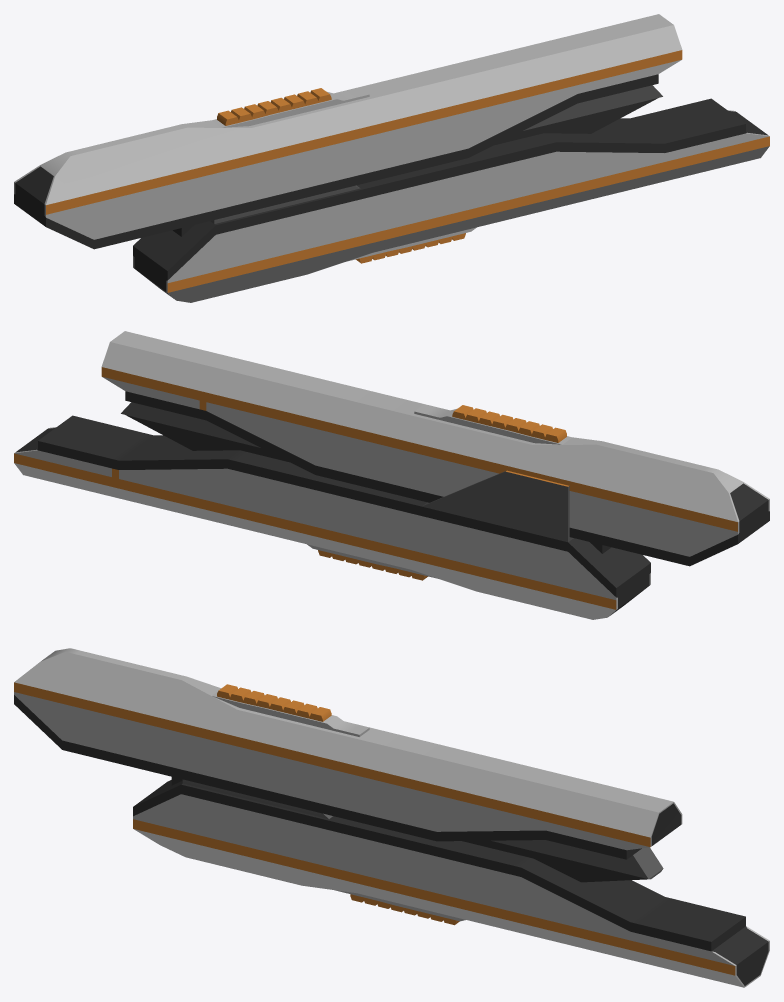
File: Body_Front_Sniper_1.gltf
3 renders of one model, top to bottom at view 1: azimuth 30°, elevation 25°; view 2: azimuth 150°, elevation 25°; view 3: azimuth 330°, elevation 25°, orthographic.
Parts seen in each view (by area): view 1: Body_Front_Sniper_1; view 2: Body_Front_Sniper_1; view 3: Body_Front_Sniper_1.
Part boxes in pixels (x1=…): Body_Front_Sniper_1: x1=14, y1=14, x2=769, y2=302; Body_Front_Sniper_1: x1=14, y1=331, x2=769, y2=619; Body_Front_Sniper_1: x1=14, y1=648, x2=769, y2=987.
Size of the model in its own units: 1.24 by 0.2891 by 0.1028.
